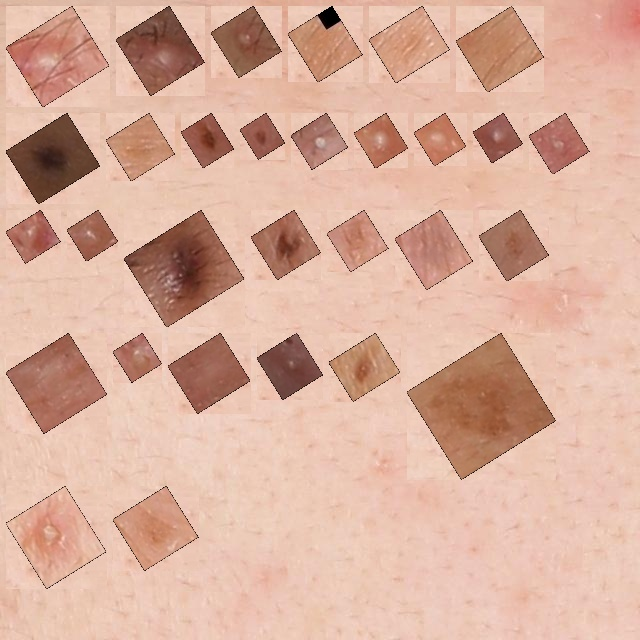hypertrophic_scar: (17, 344, 96, 422), (179, 344, 239, 402)
melasma: (418, 344, 545, 468), (467, 17, 533, 81), (124, 497, 187, 559), (406, 221, 462, 278), (380, 17, 438, 72), (299, 17, 351, 71), (490, 221, 538, 270), (117, 124, 164, 170)
nevus: (135, 221, 233, 316), (17, 124, 89, 193), (262, 221, 310, 268), (340, 344, 389, 390), (192, 124, 223, 157), (251, 124, 274, 148)
pustule: (17, 17, 98, 96), (17, 497, 95, 577), (127, 17, 193, 84), (222, 17, 270, 66), (268, 344, 312, 388), (540, 124, 578, 163), (302, 124, 337, 158), (365, 124, 397, 157), (17, 221, 49, 252), (425, 124, 455, 155), (78, 221, 107, 250), (484, 124, 512, 152), (124, 344, 151, 371)
